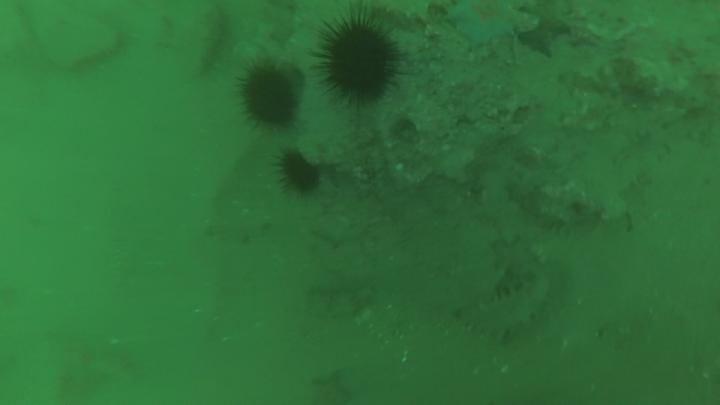echinus: (312, 18, 405, 109), (230, 55, 307, 136), (266, 145, 322, 195)
holothurian: (457, 269, 555, 342), (306, 286, 374, 323)
starfish: (451, 3, 523, 56), (519, 7, 572, 65)
